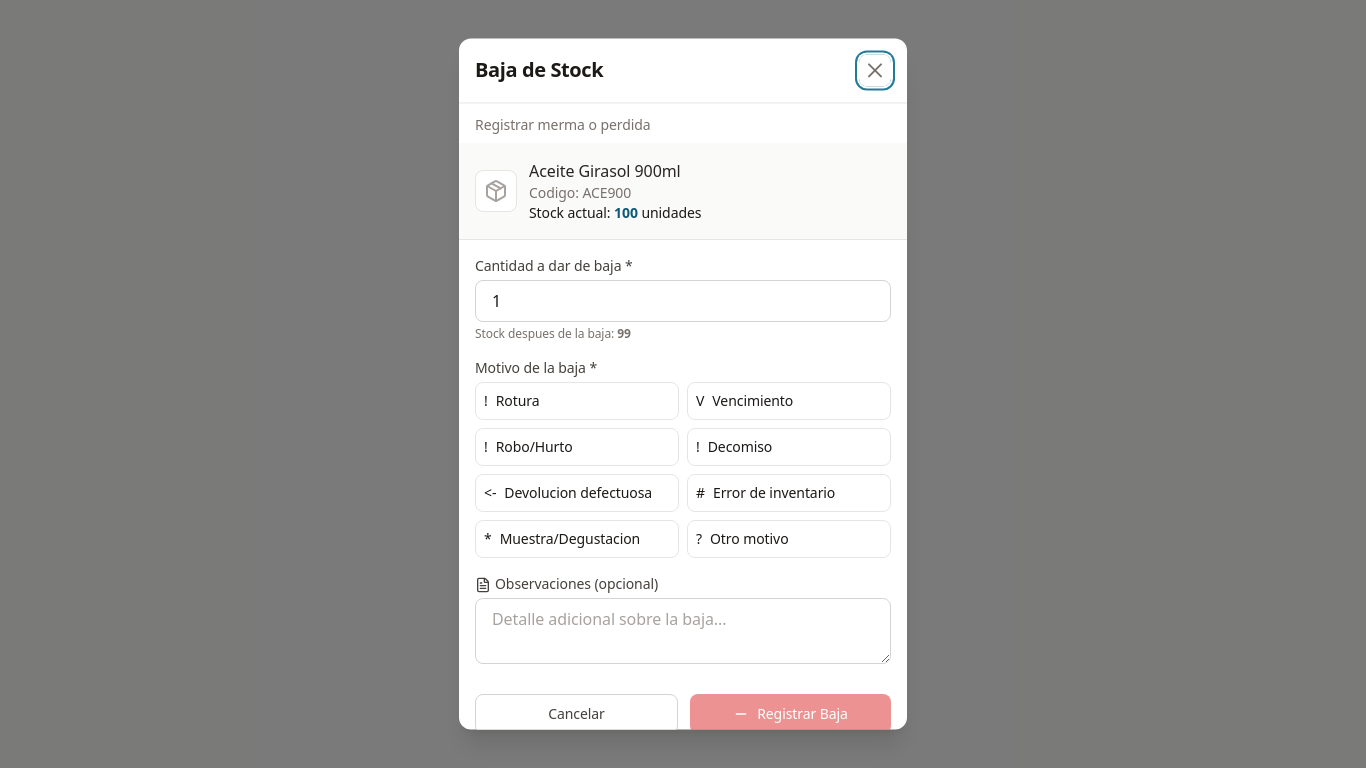
Test: ModalMermaStock — validación › muestra el mensaje aunque el error NO sea una instancia de Error
Click the button "! Rotura" at (577, 401), box [475,382,679,420]
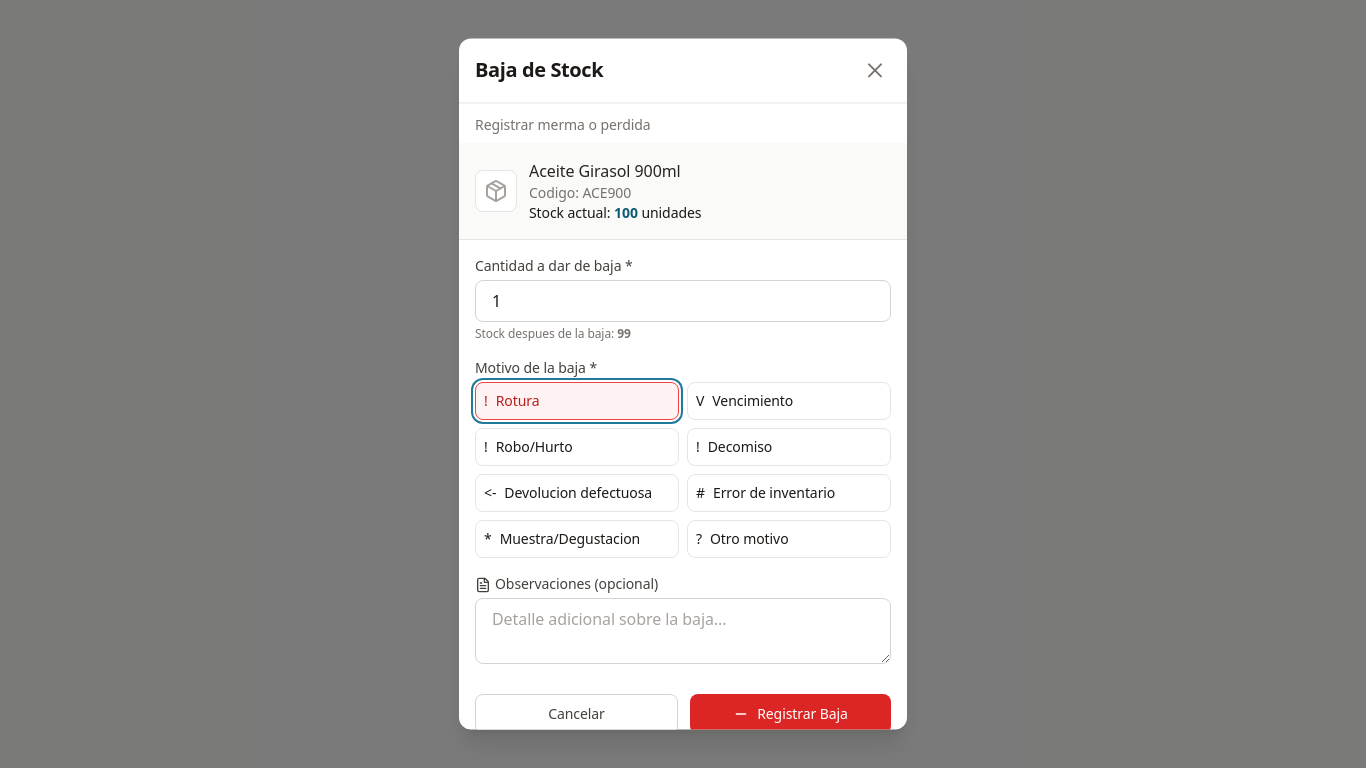
Click the button "Registrar Baja" at (790, 714), box [690,694,891,734]
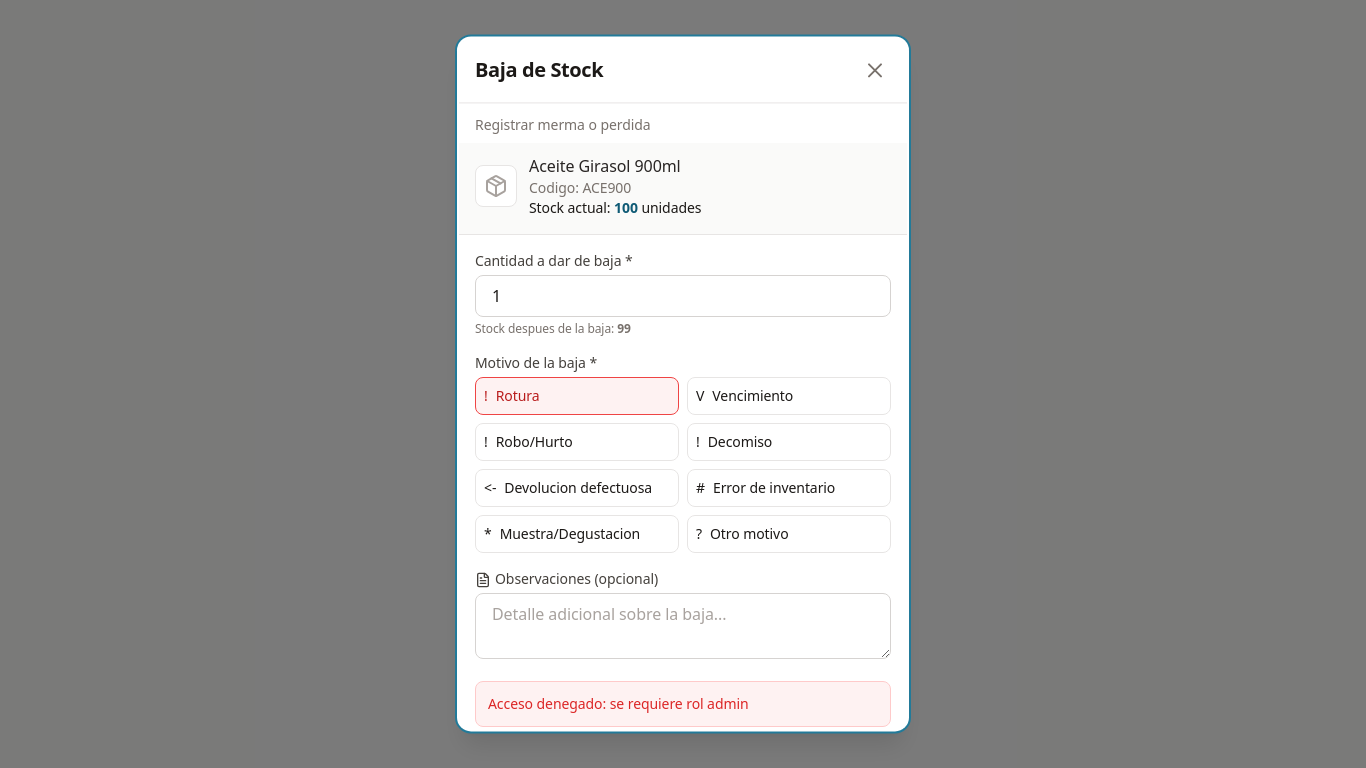
Result: the text "Acceso denegado: se requiere rol admin" is shown at [488,694,748,713]
